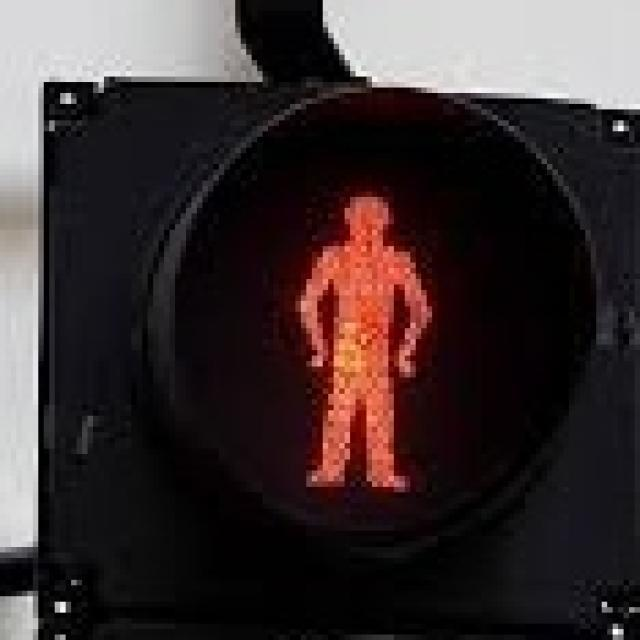red-crossing: (263, 148, 443, 514)
